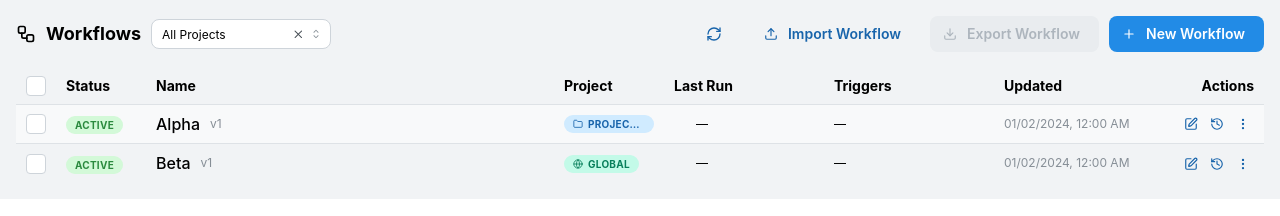
Scenario: WorkflowListPage › filters workflows by project
Check: the text "Alpha" is shown, box x1=156 y1=112 x2=200 y2=136
Click the dropdown: (241, 34) x1=151 y1=19 x2=331 y2=49
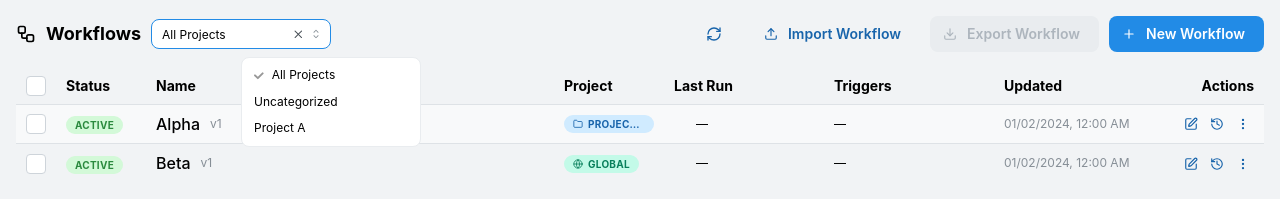
Check: the option "Uncategorized" is shown
Click the option "Uncategorized": (296, 101) x1=254 y1=94 x2=338 y2=109
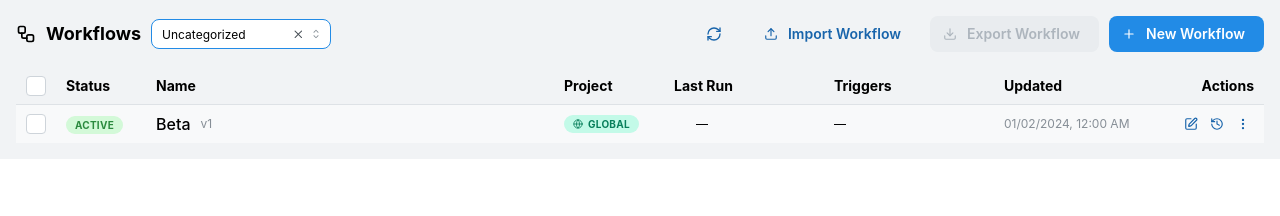
Check: the text "Beta" is shown, box x1=156 y1=112 x2=190 y2=136
Check: the text "Alpha" is gone
